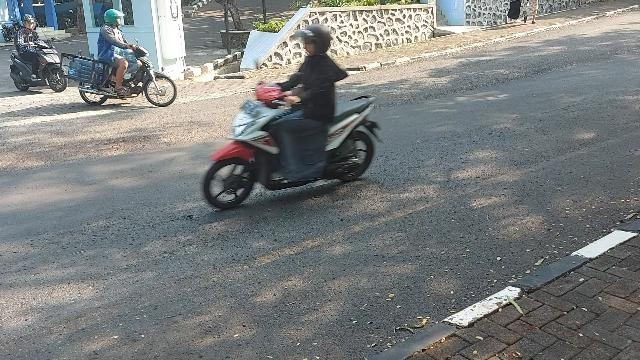helm: (297, 25, 331, 57), (105, 11, 126, 28), (23, 15, 37, 30)
motor: (204, 83, 384, 211), (80, 39, 178, 107), (10, 35, 69, 93)
